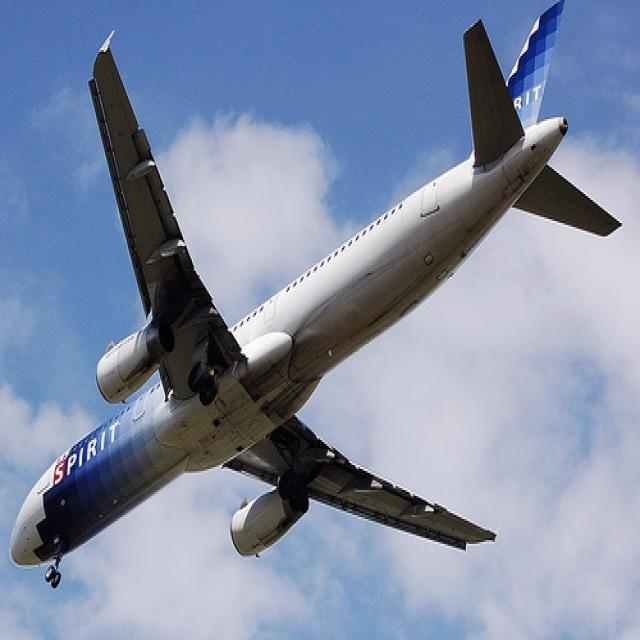aeroplane: (9, 3, 626, 591)
